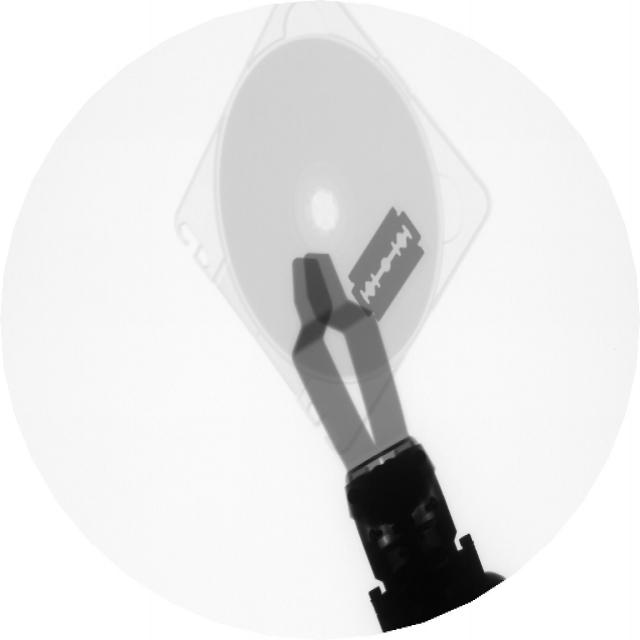BLADE: (346, 202, 432, 335)
